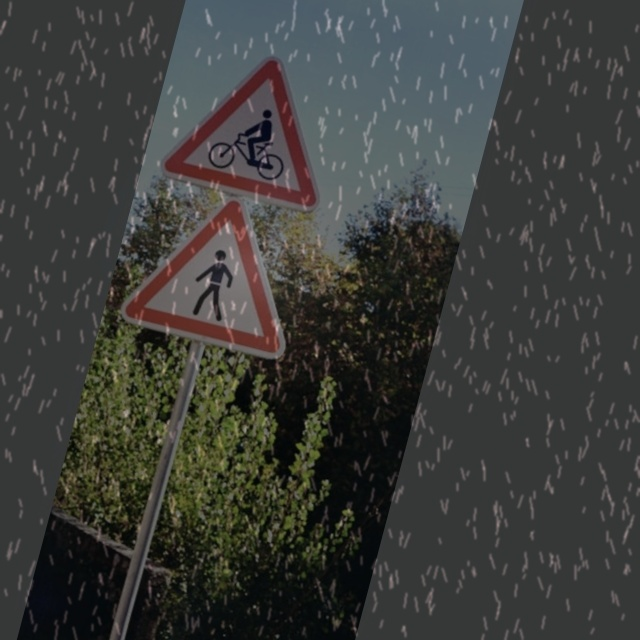Cycle_Crossing: (164, 35, 345, 214)
